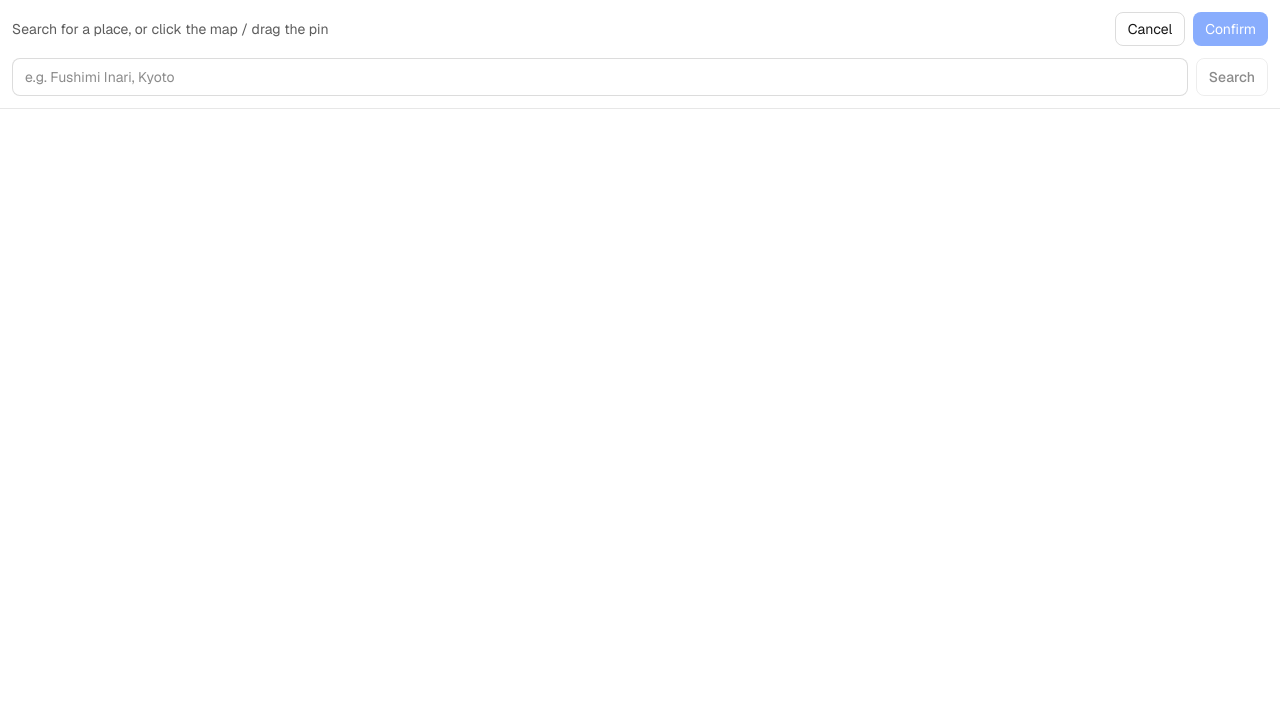
Scenario: MapPicker › shows search results and drops a pin when one is chosen
This screenshot has width=1280, height=720.
Type "Shibuya" into the search field named "search for a place".
click(600, 77); type("Shibuya")  # box [12,58,1188,96]
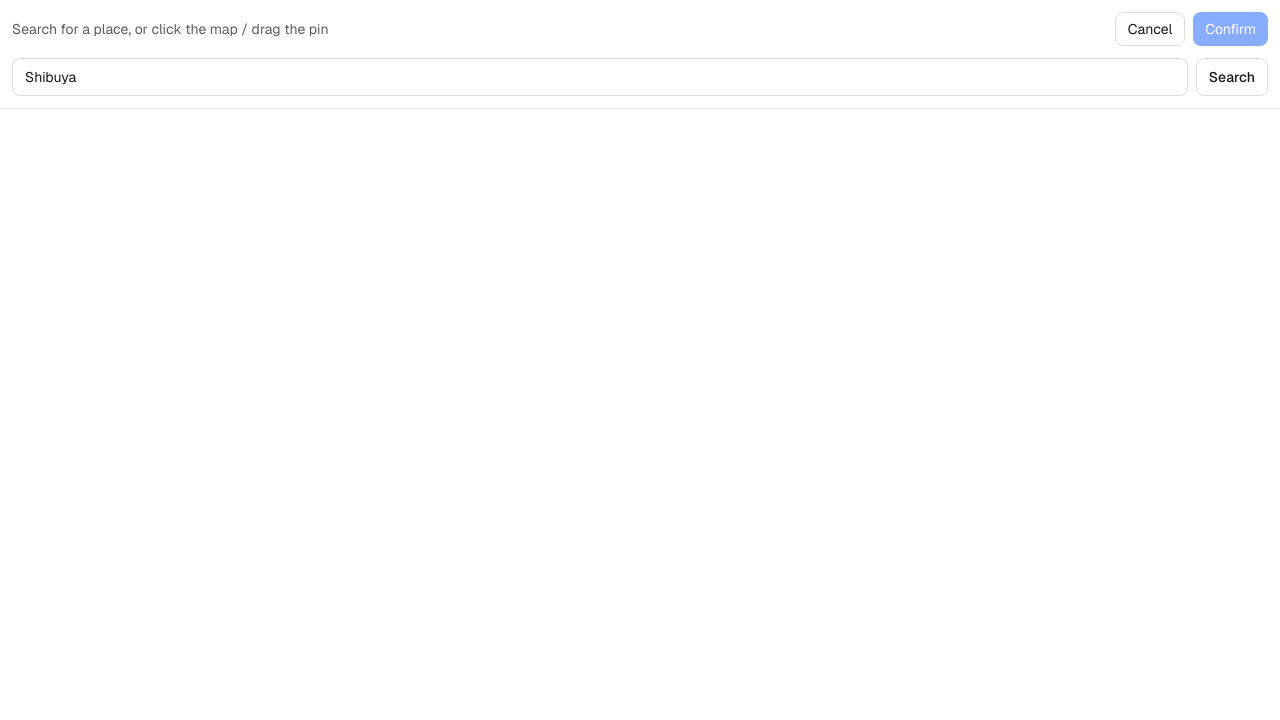
Click the button "Search".
click(1232, 77)  # box [1196,58,1268,96]
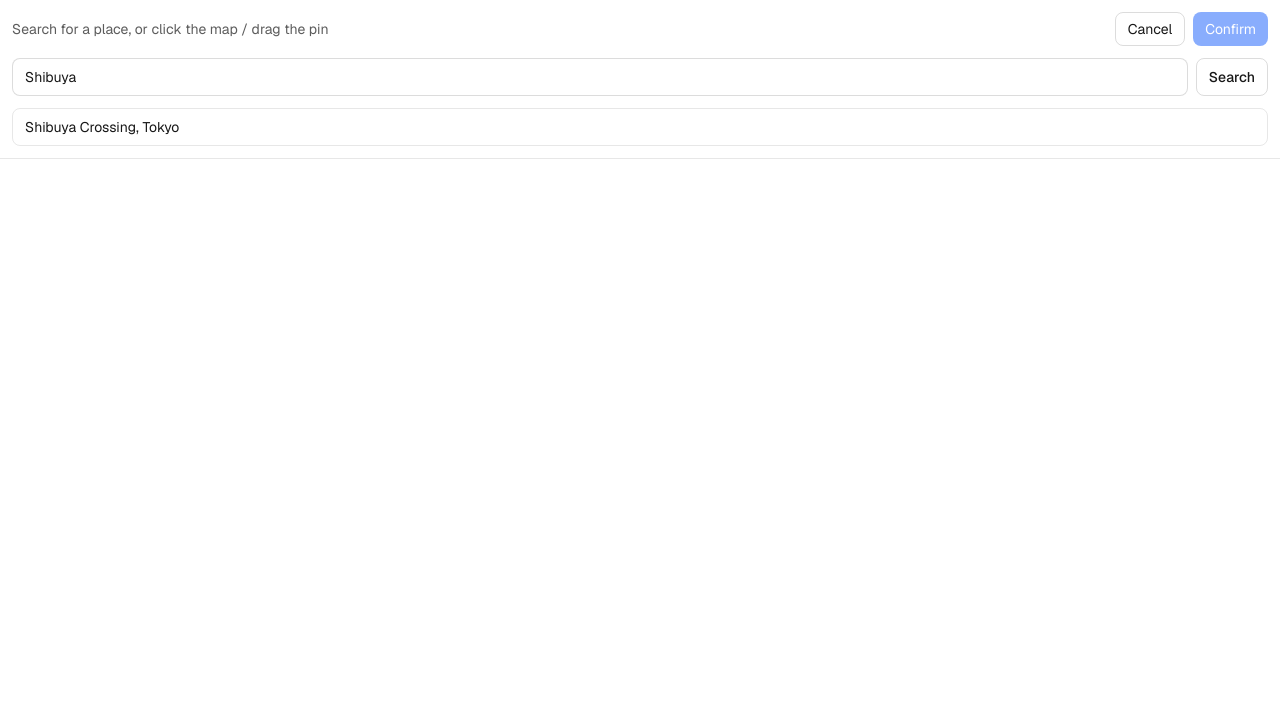
Check: the button "Shibuya Crossing, Tokyo" is shown
Click the button "Shibuya Crossing, Tokyo".
click(102, 127)  # box [13,109,1267,145]
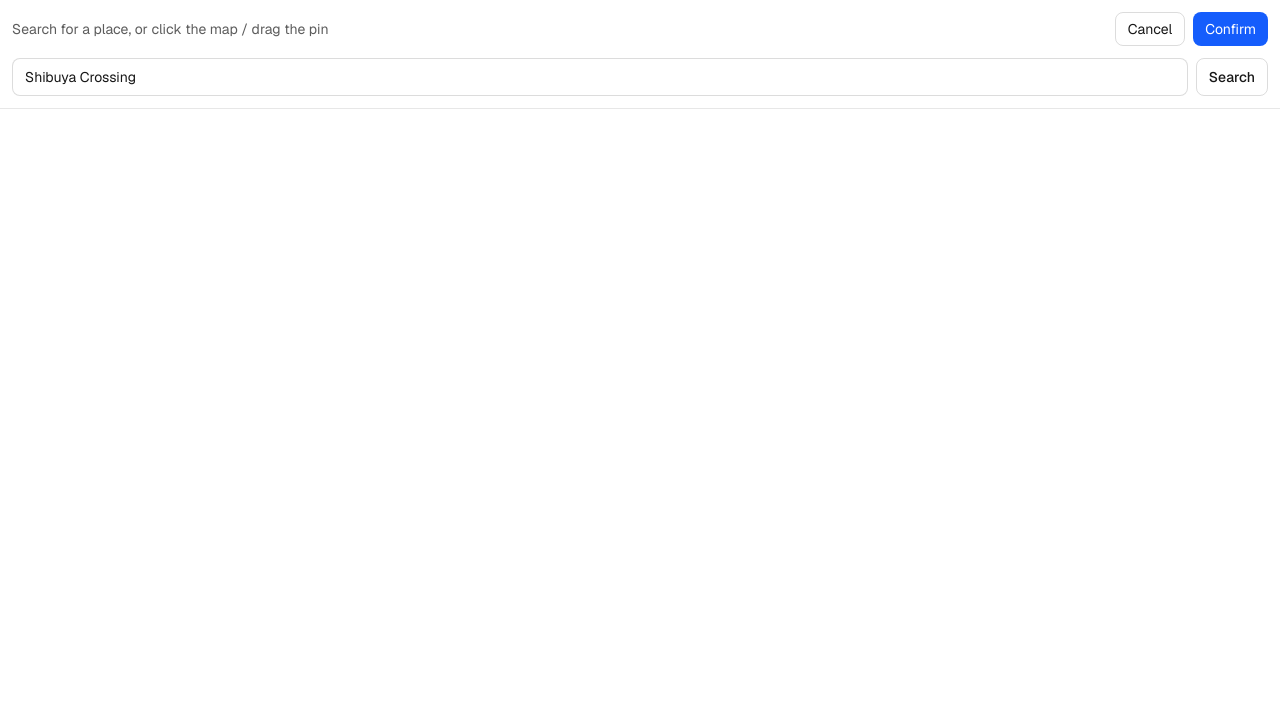
Check: the button "Confirm" is enabled, box [1193,12,1268,46]
